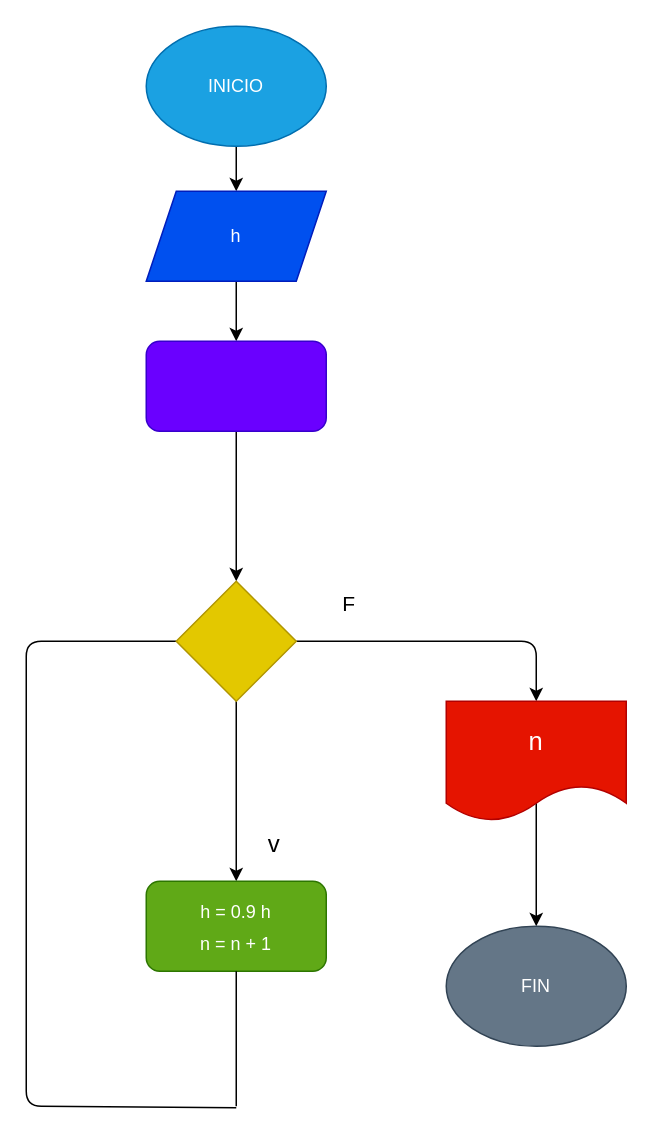
The diagram is 653 pixels wide and 1136 high, and some of its shapes have lost their labels. The shapes that lost their labels are listed below. From the top down, each one's centre as x and y in pixels, then its label:
At point (235, 385): "q = h/5 n = 0".
At point (235, 640): "h > = q".
